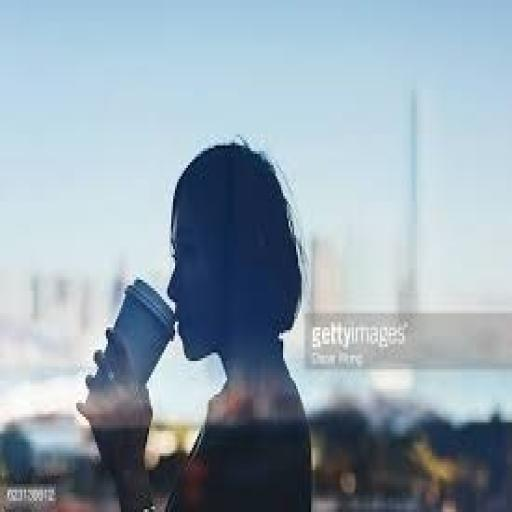drinking: (76, 137, 313, 509)
